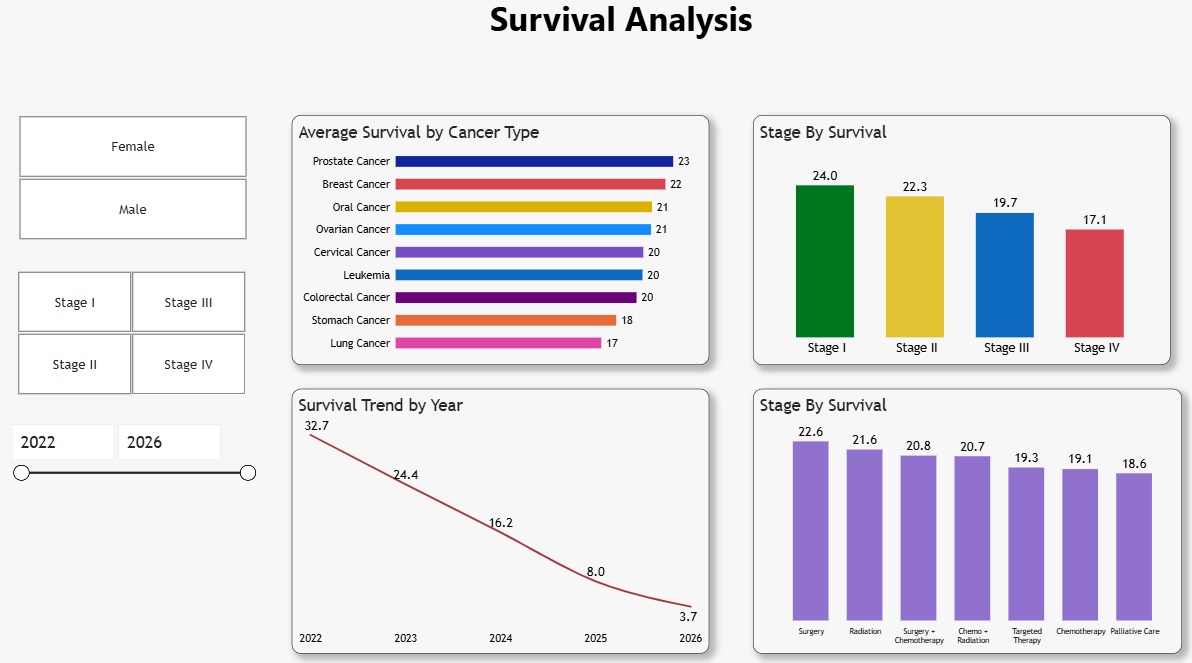

Layout of this report page (visuals, bound fields, positions):
{"tool":"powerbi","page":{"name":"Survival Analysis","canvas":[1920,1080],"ordinal":1},"visuals":[{"type":"barChart","title":"Average Survival by Cancer Type","fields":{"Y":["Avg(cancer_patients.Survival_Months)"],"Category":["cancer_patients.Cancer_Type"]},"box":[478,192,668,400],"z":0},{"type":"columnChart","title":"Stage By Survival","fields":{"Y":["Avg(cancer_patients.Survival_Months)"],"Category":["cancer_patients.Stage"]},"box":[1216,192,668,400],"z":1000},{"type":"columnChart","title":"Stage By Survival","fields":{"Y":["Avg(cancer_patients.Survival_Months)"],"Category":["cancer_patients.Treatment_Type"]},"box":[1216,630,686,424],"z":2000},{"type":"lineChart","title":"Survival Trend by Year","fields":{"Y":["Avg(cancer_patients.Survival_Months)"],"Category":["cancer_patients.Diagnosis_Year"]},"box":[478,630,668,424],"z":3000},{"type":"textbox","box":[674,0,662,98],"z":4000},{"type":"slicer","fields":{"Values":["cancer_patients.Gender"]},"box":[22,192,402,200],"z":5000},{"type":"slicer","fields":{"Values":["cancer_patients.Stage"]},"box":[20,440,402,200],"z":6000},{"type":"slicer","fields":{"Values":["cancer_patients.Diagnosis_Year"]},"box":[22,682,402,176],"z":7000}]}

Visuals, with their boxes in screenshot pixels (x1, y1, x2, y2), scaled from the page's 1920x1080 canvas onto the 1192x663 screenshot:
"Average Survival by Cancer Type" barChart: detection(297, 118, 711, 363)
"Stage By Survival" columnChart: detection(755, 118, 1170, 363)
"Stage By Survival" columnChart: detection(755, 387, 1181, 647)
"Survival Trend by Year" lineChart: detection(297, 387, 711, 647)
textbox: detection(418, 0, 829, 60)
slicer - cancer_patients.Gender: detection(14, 118, 263, 241)
slicer - cancer_patients.Stage: detection(12, 270, 262, 393)
slicer - cancer_patients.Diagnosis_Year: detection(14, 419, 263, 527)
